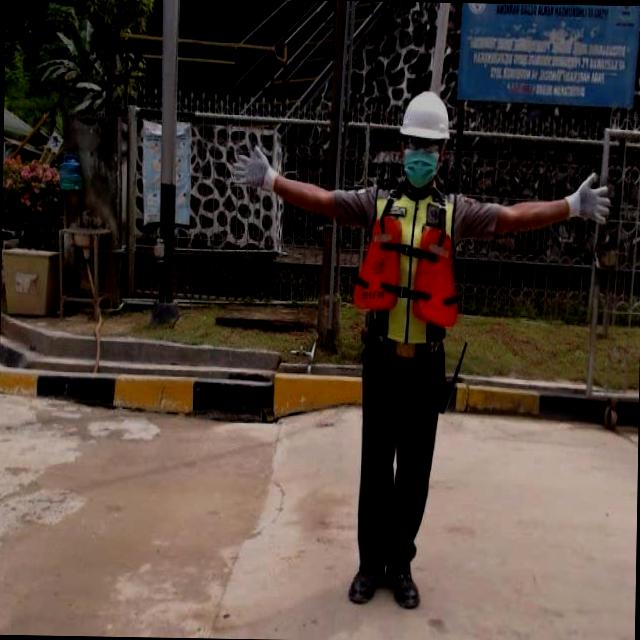vest: (352, 182, 457, 344)
